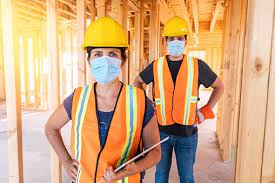Helmet: (79, 17, 133, 48), (163, 17, 193, 37)
Jacket: (71, 87, 143, 183), (148, 62, 205, 129)
Mask: (84, 58, 121, 86), (165, 42, 187, 56)
